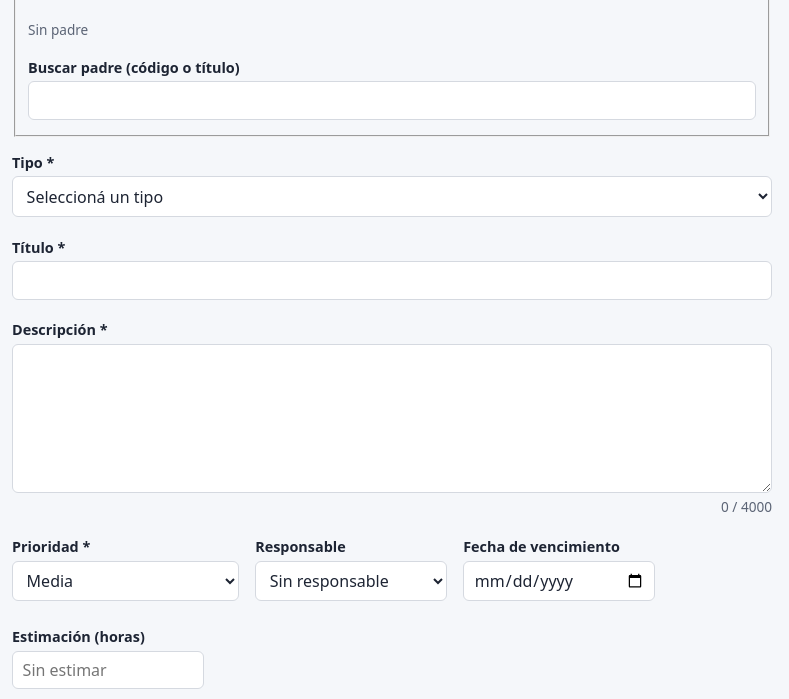
Test case: IncidenciaFormComponent › Estimación (RF-005) › estimación 1.234 muestra "La estimación admite hasta 2 decimales."
Type "1.234" into the number field with id "incidencia-estimacion".
click(108, 670); type("1.234")  # box x1=12 y1=651 x2=204 y2=689
(page scrolled)
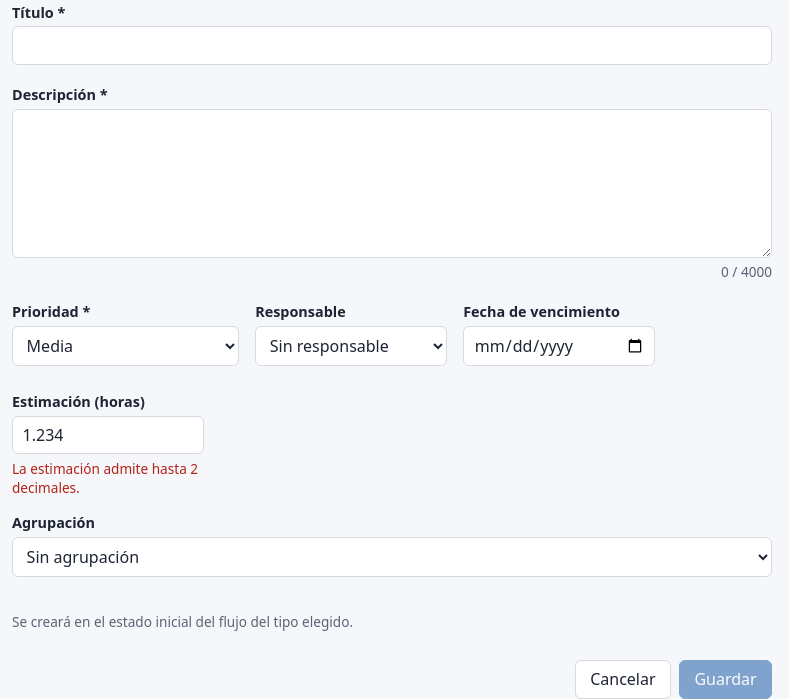
Expected: the text "La estimación admite hasta 2 decimales." is shown, x1=12 y1=459 x2=204 y2=497
